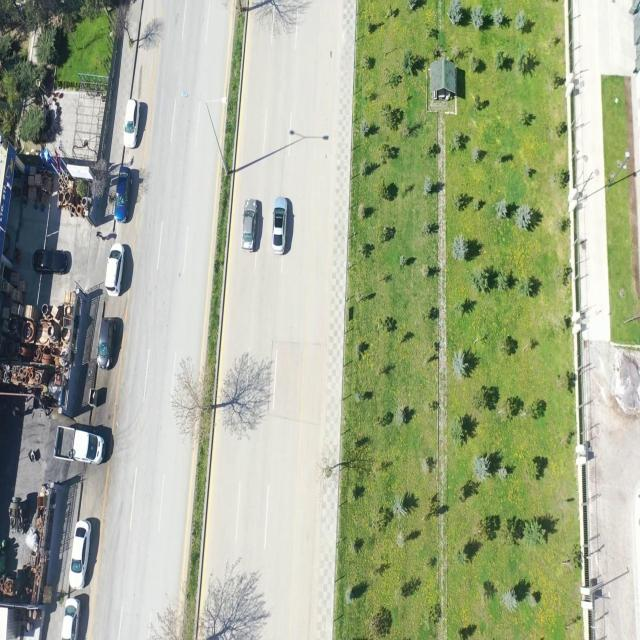p3rson: (96, 232, 104, 240)
